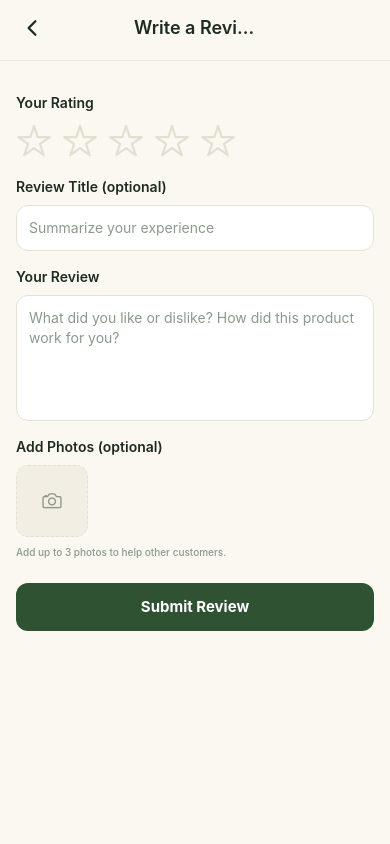
WriteReviewScreen › shows "Please write a review." after a submit attempt with empty text
Click the button named "Rate 4 stars": click(173, 141) 154,121 -> 192,161
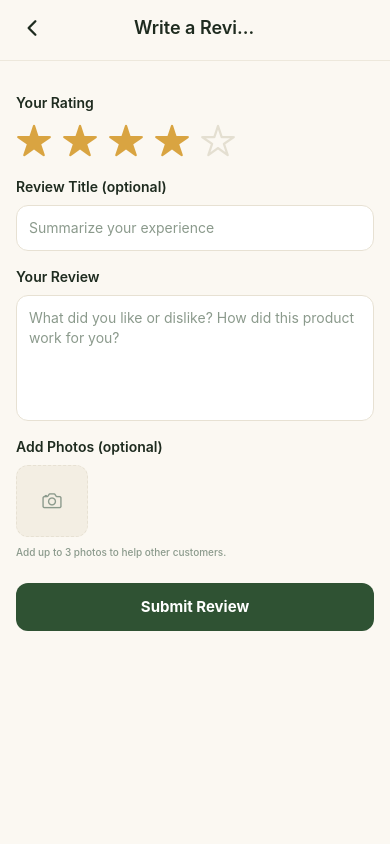
Click the button "Submit Review": click(195, 607) 16,583 -> 374,631
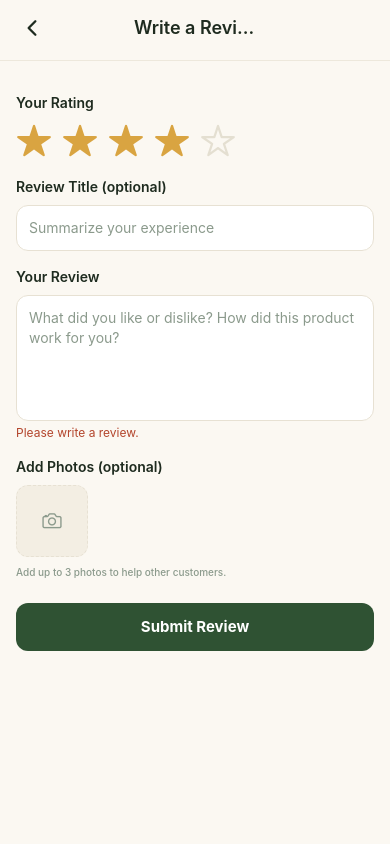
Result: the text "Please write a review." is shown at 16,425 -> 139,440
